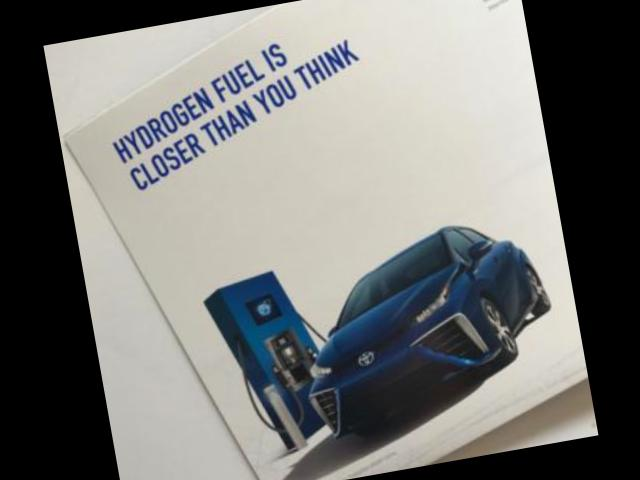cardboard paper: (67, 0, 587, 480)
